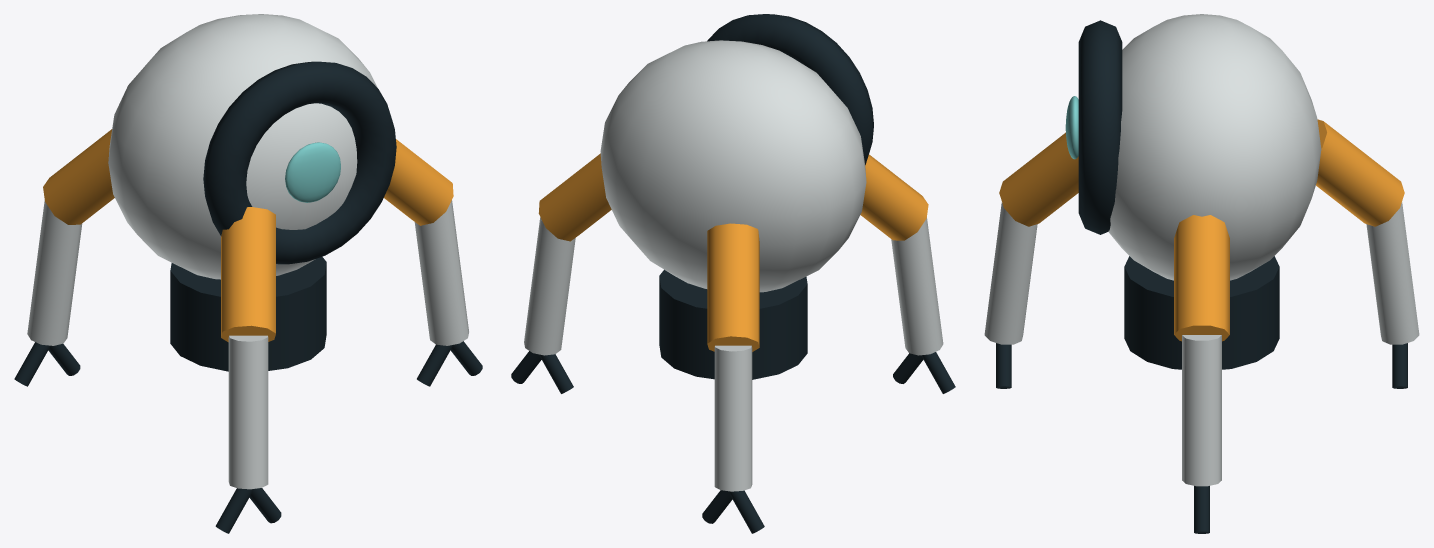
The model's file is robot-engineer.glb.
The picture shows the model from 3 angles, left to right: view 1: azimuth 30°, elevation 25°; view 2: azimuth 150°, elevation 25°; view 3: azimuth 270°, elevation 25°; orthographic projection. The views are drawn at different scales.
Parts seen in each view (by area): view 1: hover-body, tool-1, tool-2, tool-0; view 2: hover-body, tool-2, tool-0, tool-1; view 3: hover-body, tool-0, tool-2, tool-1.
Boxes of the visible parts, x1,y1,x2,y2 form: hover-body: (108, 14, 396, 371); tool-1: (215, 207, 281, 533); tool-2: (14, 129, 114, 386); tool-0: (384, 139, 482, 386); hover-body: (600, 14, 873, 379); tool-2: (702, 223, 764, 533); tool-0: (511, 153, 611, 393); tool-1: (860, 154, 955, 393); hover-body: (1065, 14, 1321, 369); tool-0: (1174, 215, 1229, 533); tool-2: (1316, 119, 1419, 388); tool-1: (984, 132, 1078, 388).
Size of the model in its own units: 2.09 by 2.21 by 2.19.
